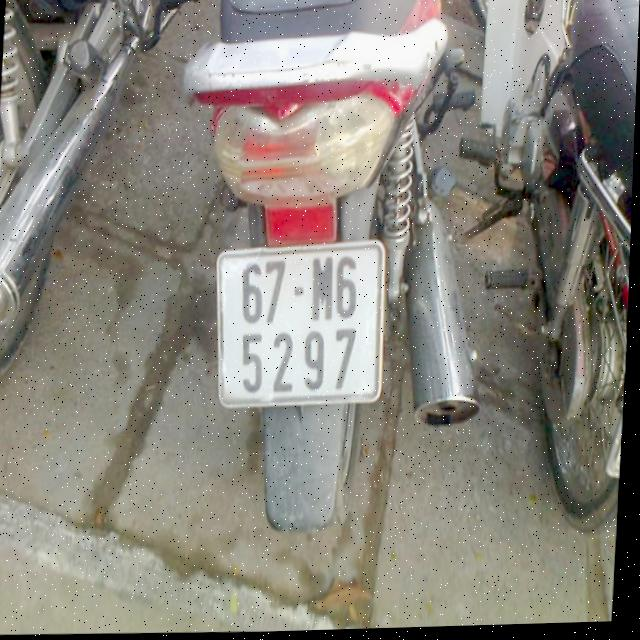motorcycle: (161, 0, 498, 565), (442, 0, 640, 539)
plate: (208, 238, 393, 411)
